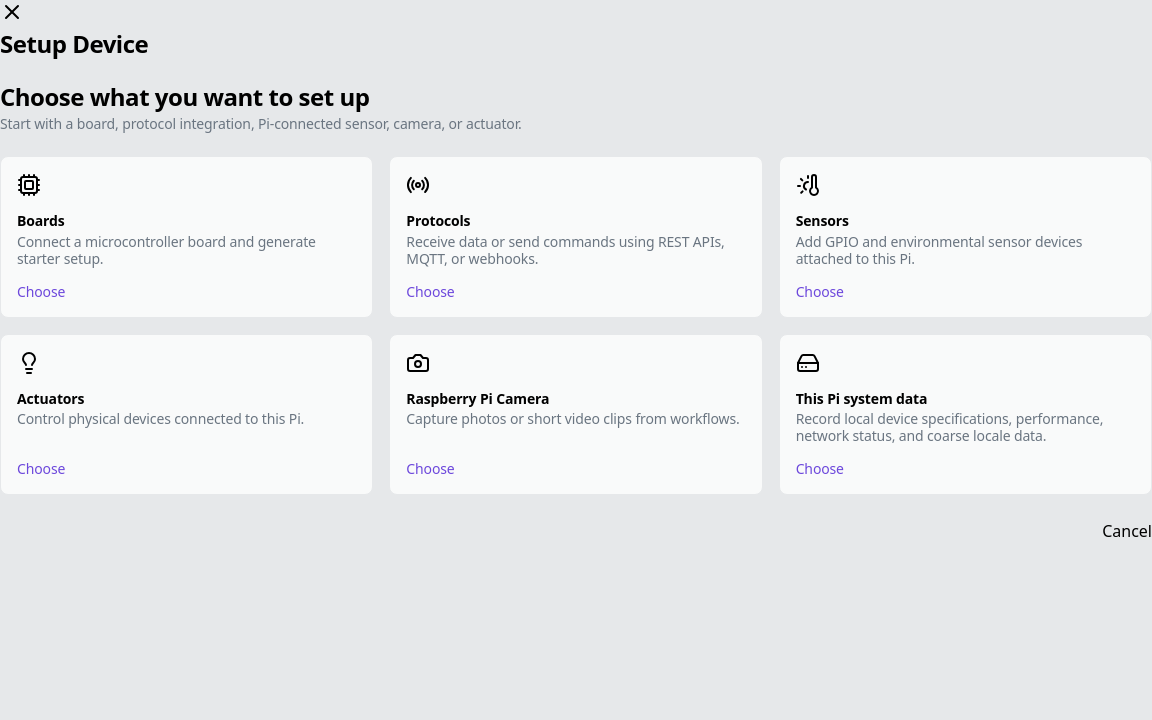
Test: AltAddDeviceFlow › Back returns to the previous setup step
Click the button "Protocols" at (576, 237), box [389, 156, 763, 318]
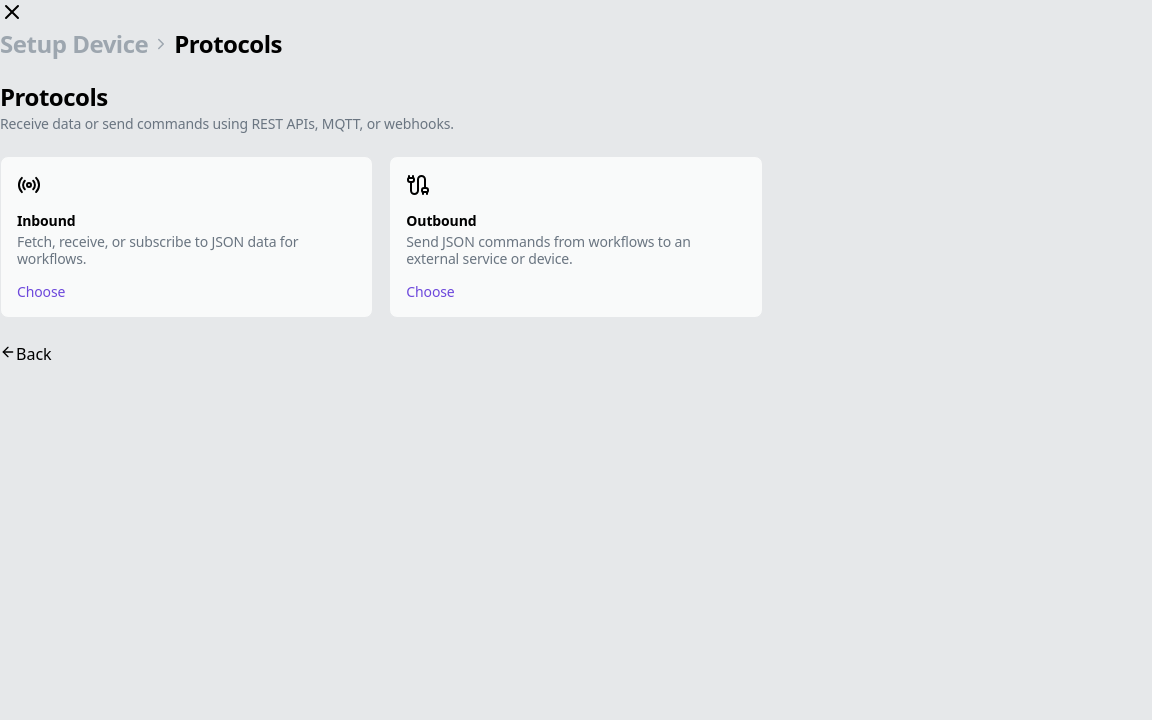
Click the button "Inbound" at (187, 237), box [0, 156, 373, 318]
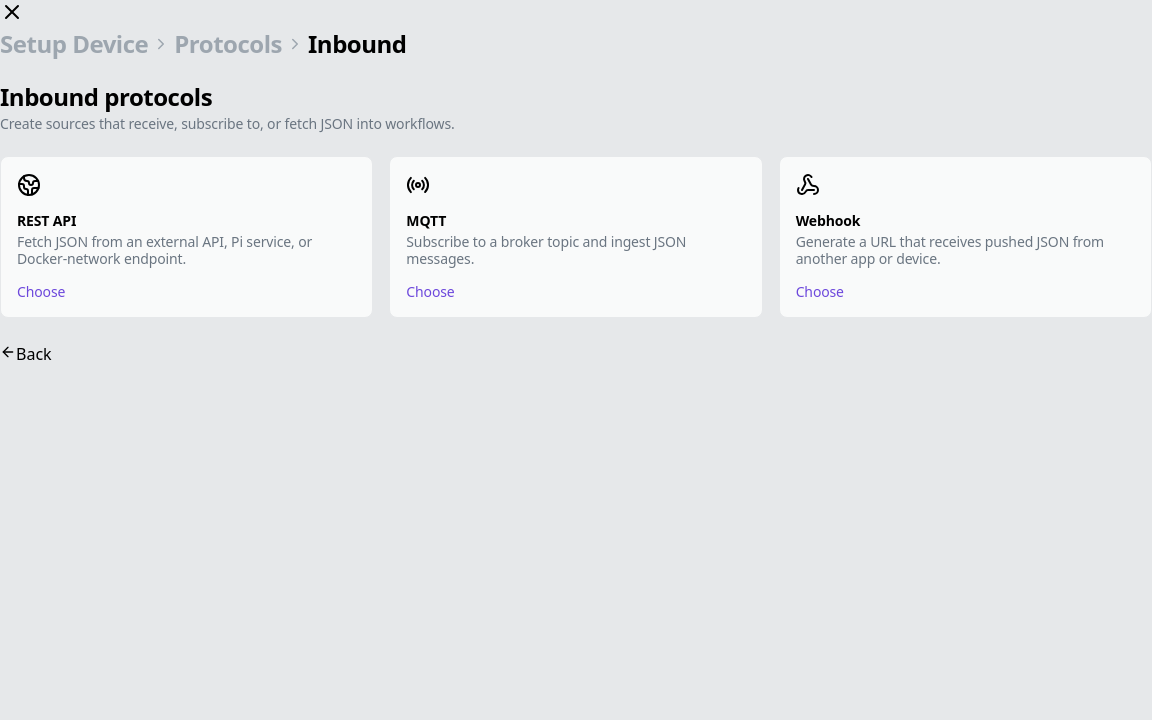
Click the button "Back" at (26, 354), box [0, 342, 52, 366]
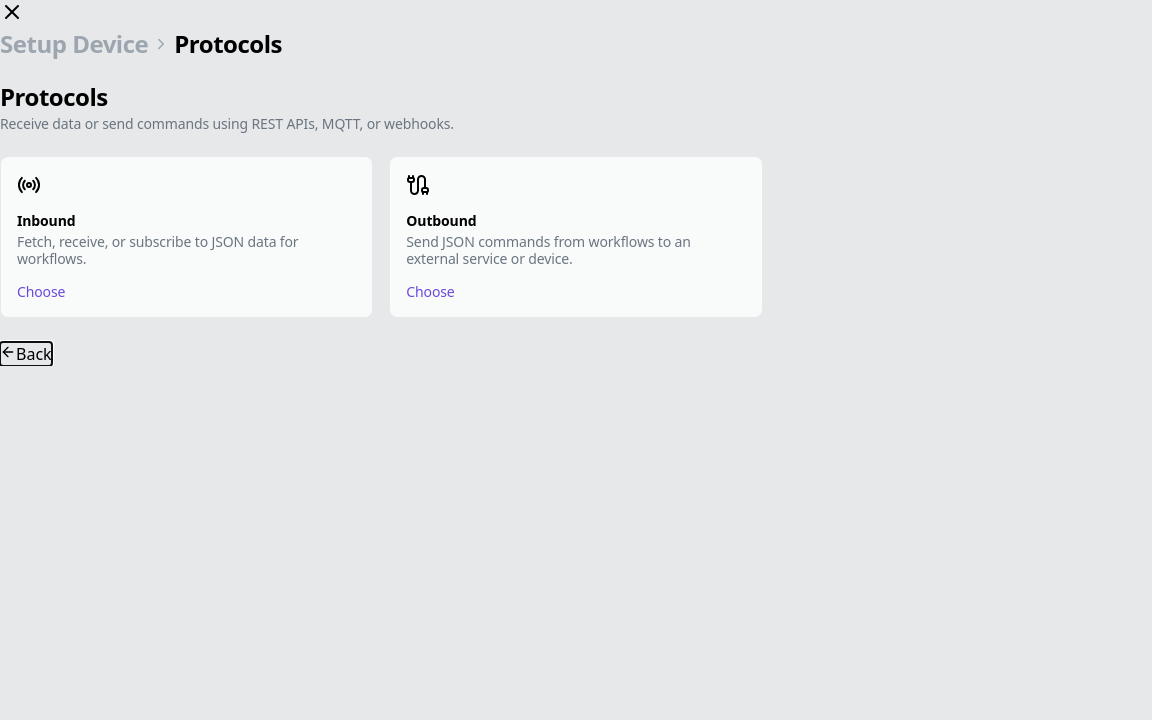
Now the button "Inbound" is shown, box [0, 156, 373, 318]
Now the button "Outbound" is shown, box [389, 156, 763, 318]
